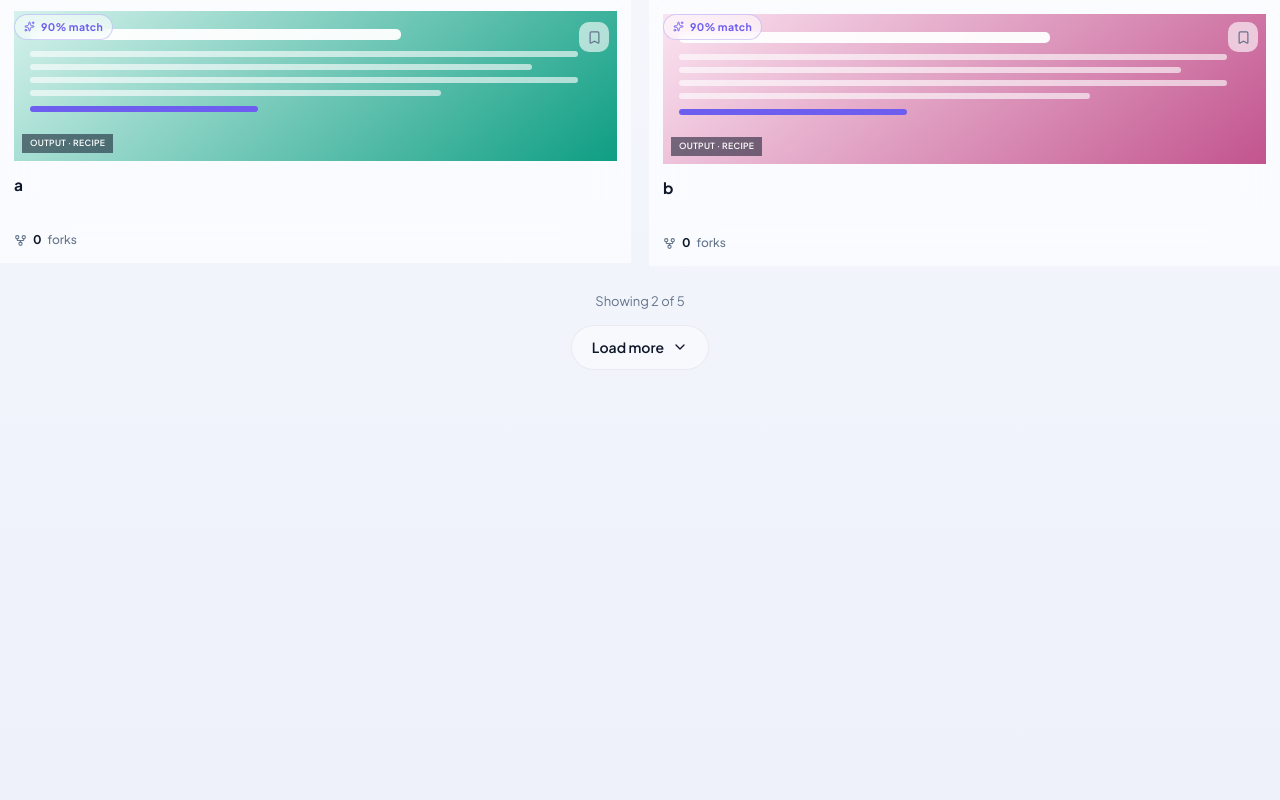
Test case: SearchResults load-more guard › appends a normal (non-degraded) page
The width and height of the screenshot is (1280, 800).
Click the button "Load more" at (640, 347), box [571,325,709,370]
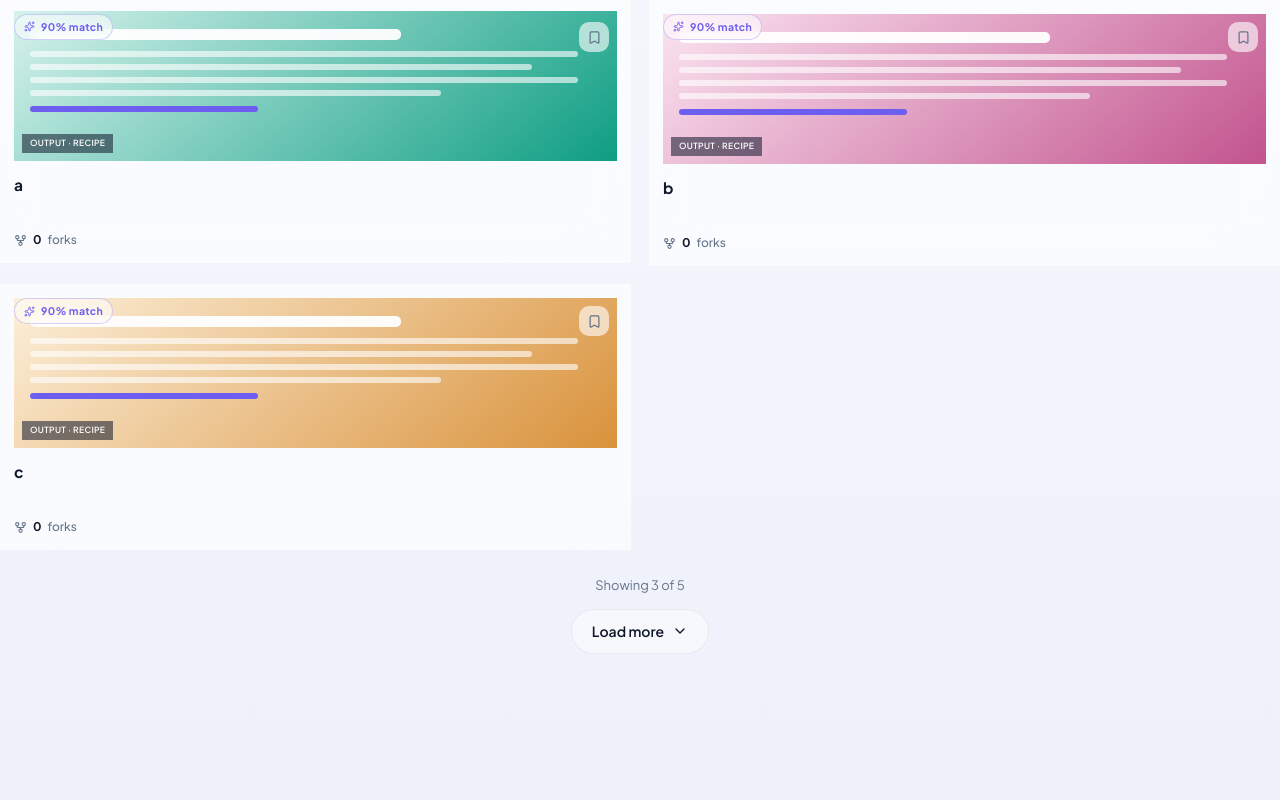
Result: the heading "c" is shown at [14,462,23,481]
